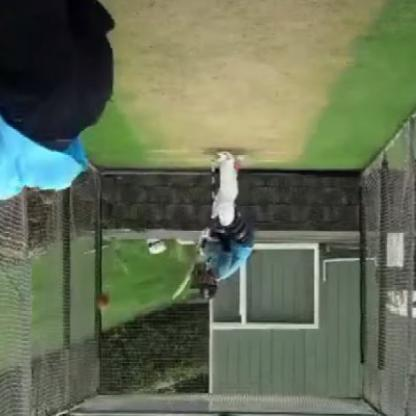ball: (94, 291, 114, 312)
